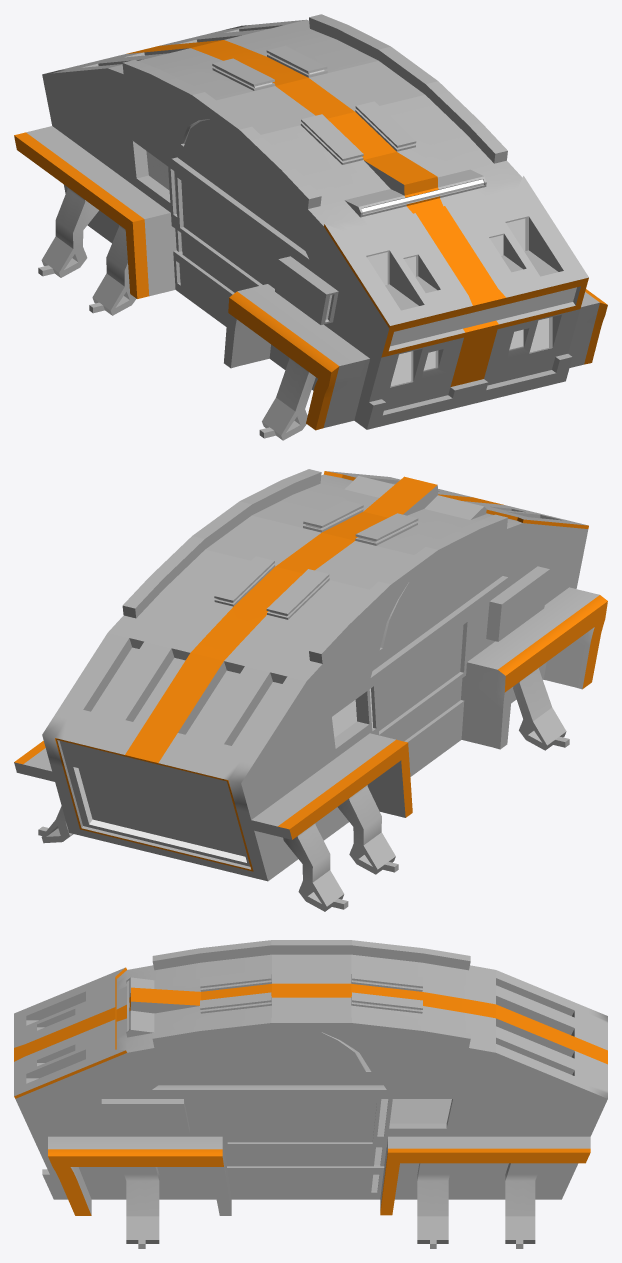
The model's file is Chassi Kalani 1.fbx.
The picture shows the model from 3 angles, top to bottom: view 1: azimuth 30°, elevation 25°; view 2: azimuth 150°, elevation 25°; view 3: azimuth 270°, elevation 25°; orthographic projection. The views are drawn at different scales.
Parts seen in each view (by area): view 1: pCube11; view 2: pCube11; view 3: pCube11.
Boxes of the visible parts, left/top/right/bottom form: pCube11: left=14, top=14, right=607, bottom=440; pCube11: left=14, top=469, right=607, bottom=911; pCube11: left=14, top=940, right=607, bottom=1248.
Size of the model in its own units: 1.54 by 1.15 by 3.03.
